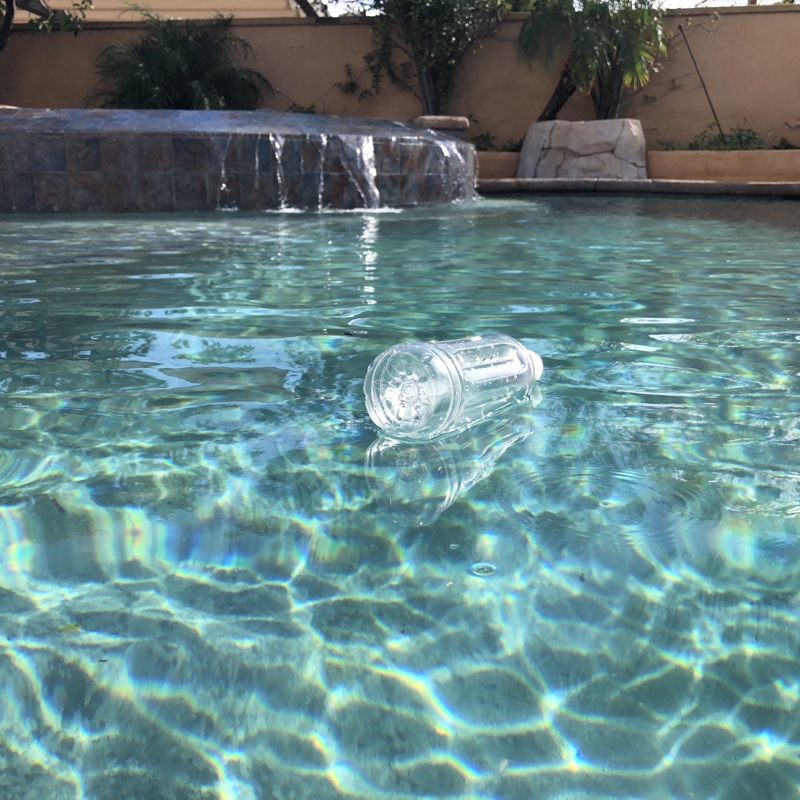Plastic Bottle: (361, 332, 546, 445)
